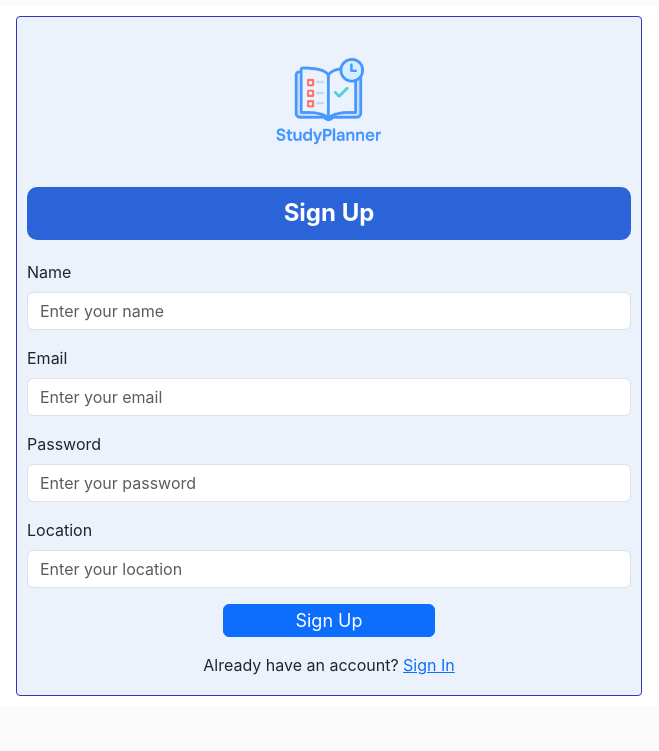
Register Component › shows validation errors on empty submit
This screenshot has width=659, height=751.
Click the button "Sign Up": click(329, 620) [223,604,435,637]
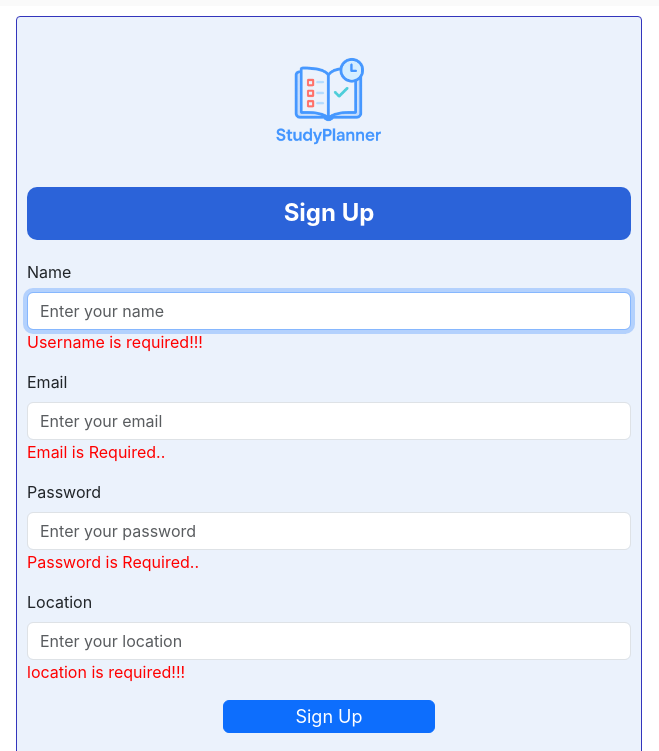
expect the text "Username is required!!!" is shown: met, box [27,332,203,352]
expect the text "Email is Required.." is shown: met, box [27,442,165,462]
expect the text "Password is Required.." is shown: met, box [27,552,199,572]
